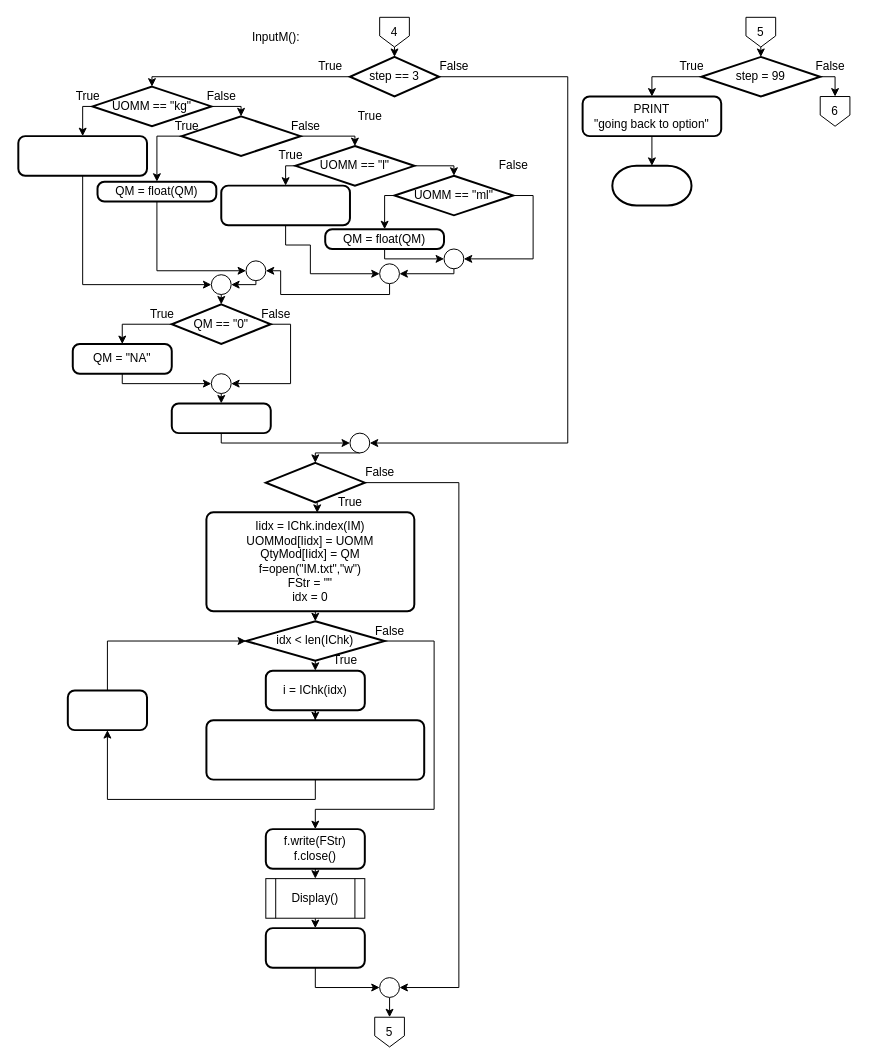
This 871x1064 diagram has some shape labels left out. Here are the shapes that lost their labels. From the top down, the box of each, then its label:
(17, 135, 148, 176): UOMM = "g" QM = float(QM) *1000
(180, 115, 301, 156): UOMM == "g"
(220, 184, 350, 226): UOMM = "ml" QM = float(QM) *1000
(611, 164, 692, 206): END
(170, 402, 271, 434): step += 1
(264, 461, 365, 503): step == 4
(66, 689, 148, 731): idx += 1
(205, 719, 425, 780): Insert = ("%s|%s|%.2f\n"%(IChk[i],UOMMod[i],float(QtyMod[i]))) FStr += Insert
(264, 927, 365, 968): step = 0
